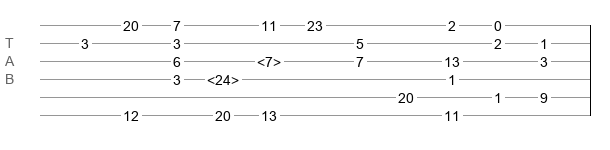0: (494, 18, 502, 28)
1: (448, 72, 456, 82), (494, 90, 502, 100), (540, 36, 548, 46)
11: (261, 18, 277, 28), (444, 108, 460, 118)
12: (123, 108, 139, 118)
13: (261, 108, 277, 118), (444, 54, 460, 64)
2: (448, 18, 456, 28), (494, 36, 502, 46)
20: (123, 18, 139, 28), (215, 108, 231, 118), (398, 90, 414, 100)
23: (307, 18, 323, 28)
3: (81, 36, 89, 46), (173, 36, 181, 46), (173, 72, 181, 82), (540, 54, 548, 64)
5: (356, 36, 364, 46)
6: (173, 54, 181, 64)
7: (173, 18, 181, 28), (356, 54, 364, 64)
9: (540, 90, 548, 100)
harmonic: (207, 72, 239, 82), (257, 54, 281, 64)
